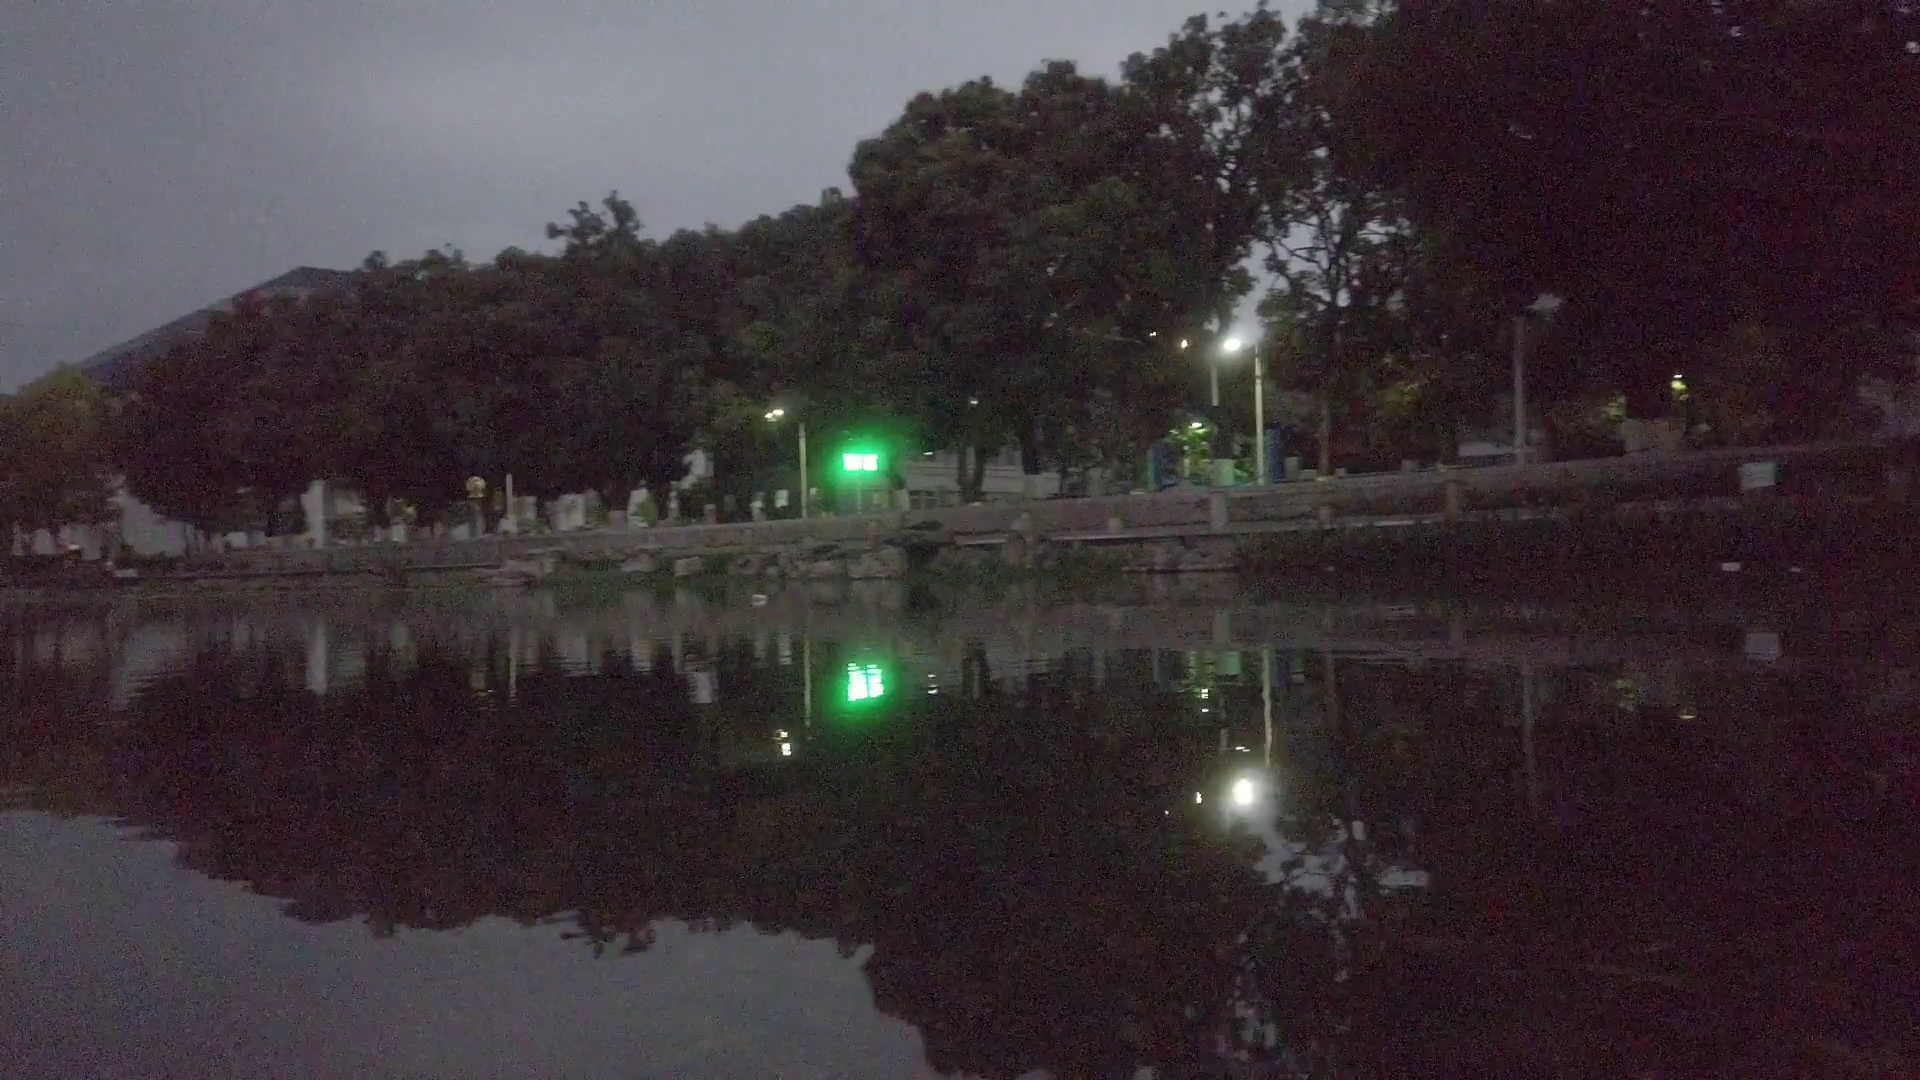bottle: (752, 593, 767, 603)
carton: (1720, 560, 1741, 574)
